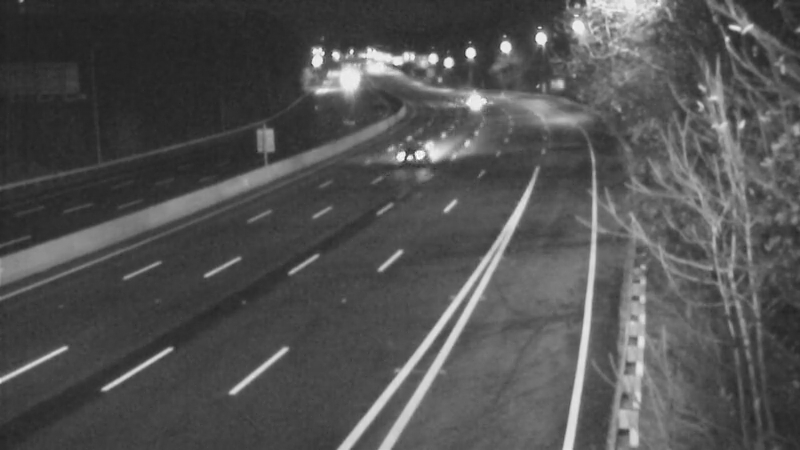vehicle: (364, 116, 444, 196), (448, 73, 498, 123)
